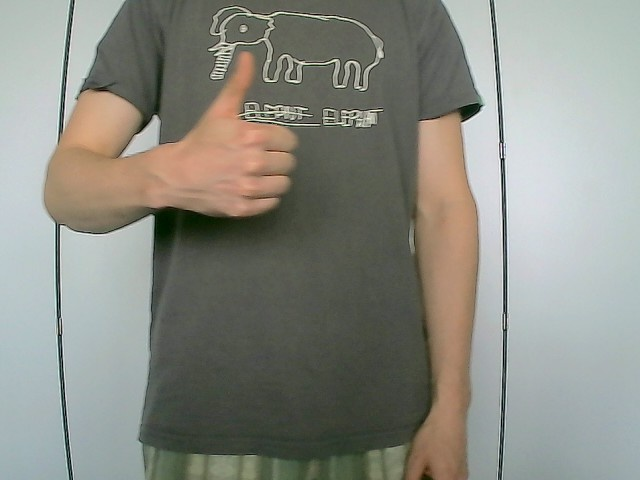up: (173, 50, 300, 220)
